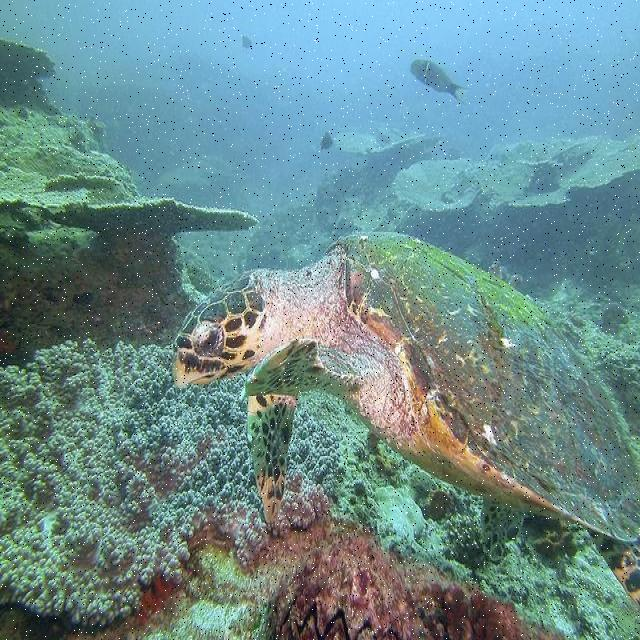fish: (164, 232, 637, 611)
reefs: (2, 343, 337, 630)
